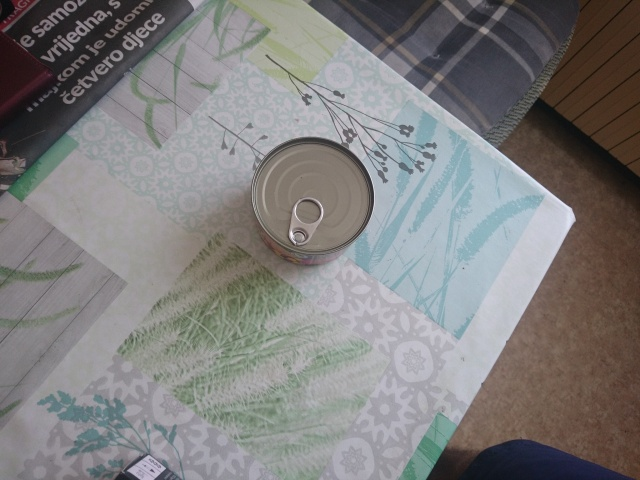Giana Tuna Salad Mexico 185g: (247, 134, 377, 268)
